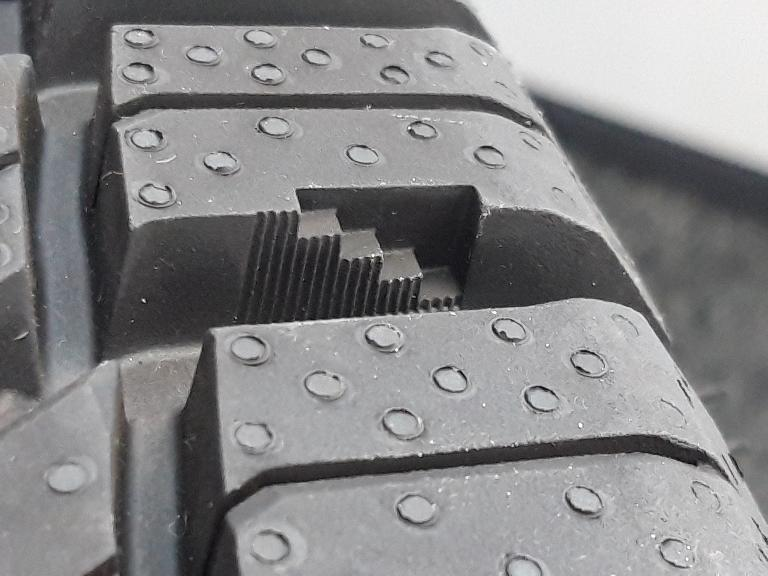temoin:100: (228, 182, 493, 332)
